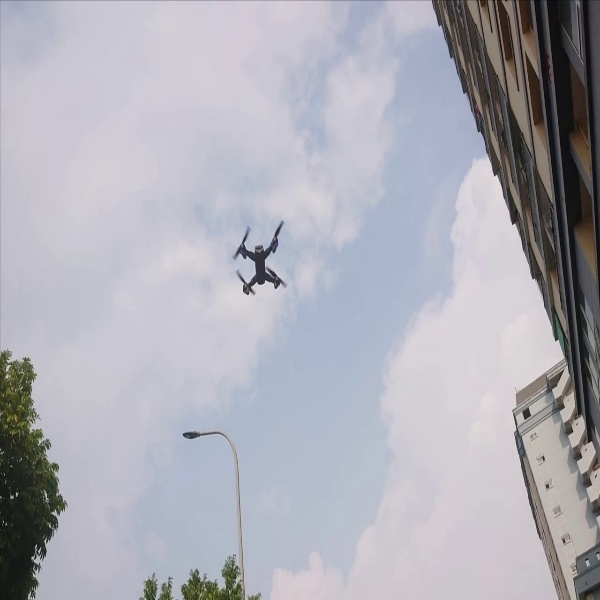drone: (224, 217, 295, 295)
